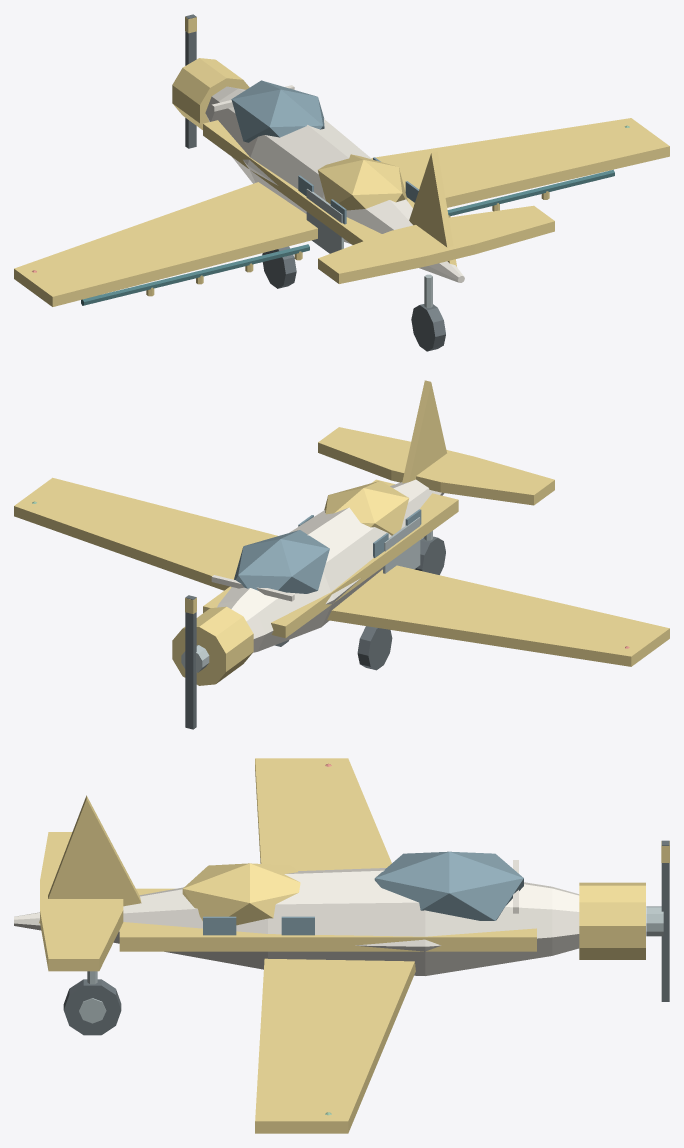
File: agricultural_duster.glb
The picture shows the model from 3 angles, top to bottom: view 1: azimuth 30°, elevation 25°; view 2: azimuth 150°, elevation 25°; view 3: azimuth 270°, elevation 25°; orthographic projection. The views are drawn at different scales.
Visible parts, largest first — view 1: agricultural_duster__main_wings, agricultural_duster__tailplane, agricultural_duster__faceted_fuselage, agricultural_duster__cockpit_canopy, agricultural_duster__chemical_hopper, agricultural_duster__engine_nose, agricultural_duster__signature_stripe, agricultural_duster__vertical_tail, agricultural_duster__spray_bar, agricultural_duster__wheel.002, agricultural_duster__spray_bar.001, agricultural_duster__cargo_door (+2 smaller); view 2: agricultural_duster__main_wings, agricultural_duster__faceted_fuselage, agricultural_duster__tailplane, agricultural_duster__cockpit_canopy, agricultural_duster__engine_nose, agricultural_duster__signature_stripe, agricultural_duster__chemical_hopper, agricultural_duster__vertical_tail, agricultural_duster__Propeller_blades, agricultural_duster__wheel, agricultural_duster__cargo_door, agricultural_duster__wheel.002 (+1 smaller); view 3: agricultural_duster__main_wings, agricultural_duster__faceted_fuselage, agricultural_duster__signature_stripe, agricultural_duster__cockpit_canopy, agricultural_duster__tailplane, agricultural_duster__chemical_hopper, agricultural_duster__engine_nose, agricultural_duster__vertical_tail, agricultural_duster__wheel.002, agricultural_duster__Propeller_blades, agricultural_duster__cabin_window.001, agricultural_duster__cabin_window.003.
Boxes of the visible parts, <box> form: agricultural_duster__main_wings: <box>14,118,669,306</box>; agricultural_duster__tailplane: <box>318,205,554,283</box>; agricultural_duster__faceted_fuselage: <box>205,86,464,282</box>; agricultural_duster__cockpit_canopy: <box>231,80,324,142</box>; agricultural_duster__chemical_hopper: <box>318,154,407,210</box>; agricultural_duster__engine_nose: <box>172,58,249,129</box>; agricultural_duster__signature_stripe: <box>203,120,414,244</box>; agricultural_duster__vertical_tail: <box>409,151,456,266</box>; agricultural_duster__spray_bar: <box>81,244,309,305</box>; agricultural_duster__wheel.002: <box>411,304,445,351</box>; agricultural_duster__spray_bar.001: <box>447,169,614,215</box>; agricultural_duster__cargo_door: <box>306,189,343,253</box>; agricultural_duster__main_wings: <box>14,477,669,666</box>; agricultural_duster__faceted_fuselage: <box>217,479,444,652</box>; agricultural_duster__tailplane: <box>318,427,554,505</box>; agricultural_duster__cockpit_canopy: <box>234,530,329,593</box>; agricultural_duster__engine_nose: <box>172,606,253,685</box>; agricultural_duster__signature_stripe: <box>203,479,458,638</box>; agricultural_duster__chemical_hopper: <box>324,480,409,535</box>; agricultural_duster__vertical_tail: <box>402,380,446,483</box>; agricultural_duster__Propeller_blades: <box>185,595,196,729</box>; agricultural_duster__wheel: <box>357,626,392,670</box>; agricultural_duster__cargo_door: <box>383,517,420,573</box>; agricultural_duster__wheel.002: <box>414,536,445,574</box>; agricultural_duster__main_wings: <box>255,758,415,1133</box>; agricultural_duster__faceted_fuselage: <box>14,868,579,975</box>; agricultural_duster__signature_stripe: <box>119,888,536,951</box>; agricultural_duster__cockpit_canopy: <box>374,851,523,920</box>; agricultural_duster__tailplane: <box>40,832,123,971</box>; agricultural_duster__chemical_hopper: <box>182,863,300,925</box>; agricultural_duster__engine_nose: <box>579,882,645,959</box>; agricultural_duster__vertical_tail: <box>39,795,141,923</box>; agricultural_duster__wheel.002: <box>63,979,121,1035</box>; agricultural_duster__Propeller_blades: <box>661,840,669,1001</box>; agricultural_duster__cabin_window.001: <box>203,916,236,935</box>; agricultural_duster__cabin_window.003: <box>281,916,314,935</box>.
Bounding box in the file's own units: 12.5 × 3.8 × 9.55.
